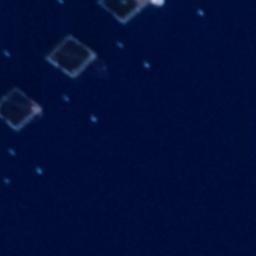square_cover: (42, 32, 100, 79), (1, 85, 45, 134), (93, 1, 152, 25)
